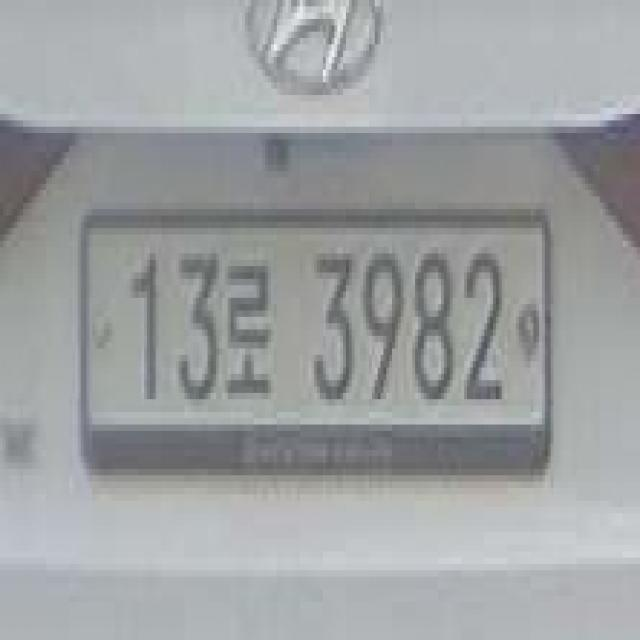1: (124, 240, 170, 424)
2: (458, 241, 511, 418)
3: (170, 247, 225, 412), (308, 241, 358, 412)
8: (409, 234, 458, 418)
9: (354, 228, 410, 418)
license_plate: (72, 203, 559, 494)
lo: (222, 247, 280, 418)
